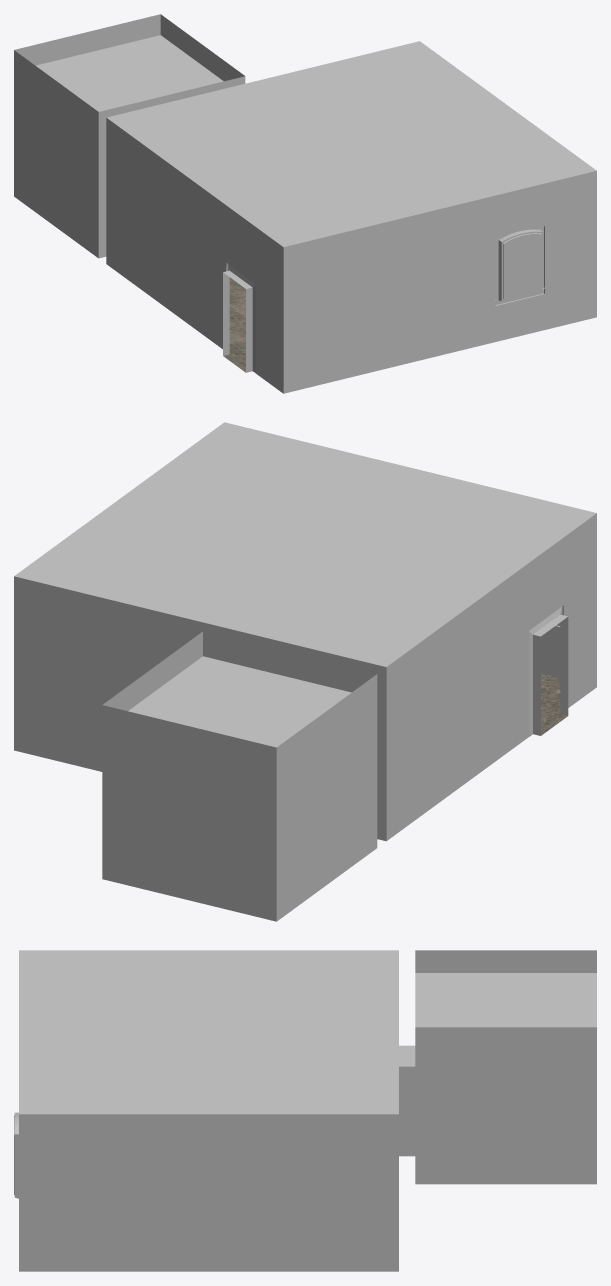
The model's file is SharedRoomB_2x3.FBX.
3 renders of one model, top to bottom at view 1: azimuth 30°, elevation 25°; view 2: azimuth 150°, elevation 25°; view 3: azimuth 270°, elevation 25°, orthographic. The views are drawn at different scales.
Visible parts, largest first — view 1: SharedRoomB_2x3; view 2: SharedRoomB_2x3; view 3: SharedRoomB_2x3.
Boxes of the visible parts, x1=… form: SharedRoomB_2x3: x1=14, y1=14, x2=596, y2=393; SharedRoomB_2x3: x1=14, y1=422, x2=596, y2=921; SharedRoomB_2x3: x1=14, y1=950, x2=596, y2=1271.
Size of what is drawn, in the model's own units: 945 by 413 by 1390.
